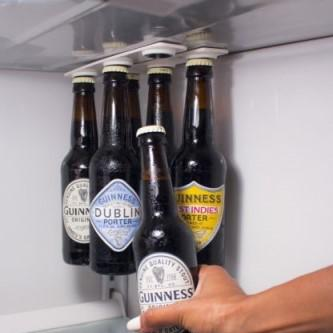beer: (59, 54, 228, 331)
